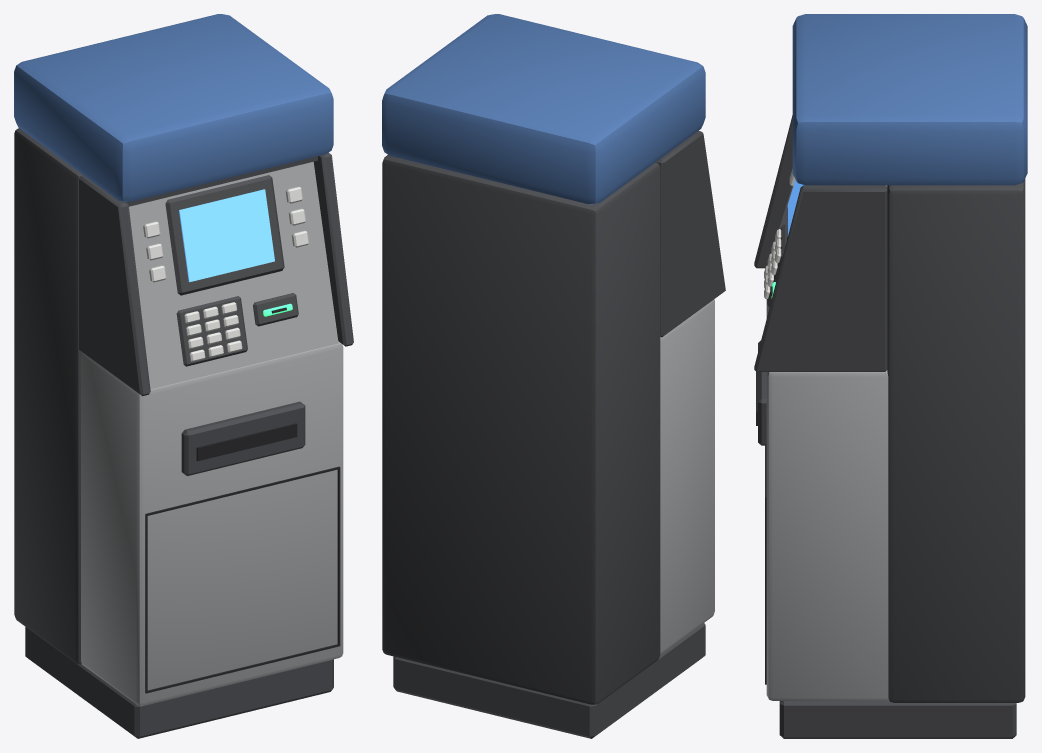
The model's file is ATM.fbx.
3 renders of one model, left to right at view 1: azimuth 30°, elevation 25°; view 2: azimuth 150°, elevation 25°; view 3: azimuth 270°, elevation 25°, orthographic. The views are drawn at different scales.
Visible parts, largest first — view 1: ATM_Mesh; view 2: ATM_Mesh; view 3: ATM_Mesh.
Boxes of the visible parts, left/top/right/bottom form: ATM_Mesh: left=14, top=14, right=353, bottom=738; ATM_Mesh: left=382, top=14, right=725, bottom=738; ATM_Mesh: left=754, top=14, right=1027, bottom=738.
Bounding box in the file's own units: 0.61 × 1.6 × 0.6336.
